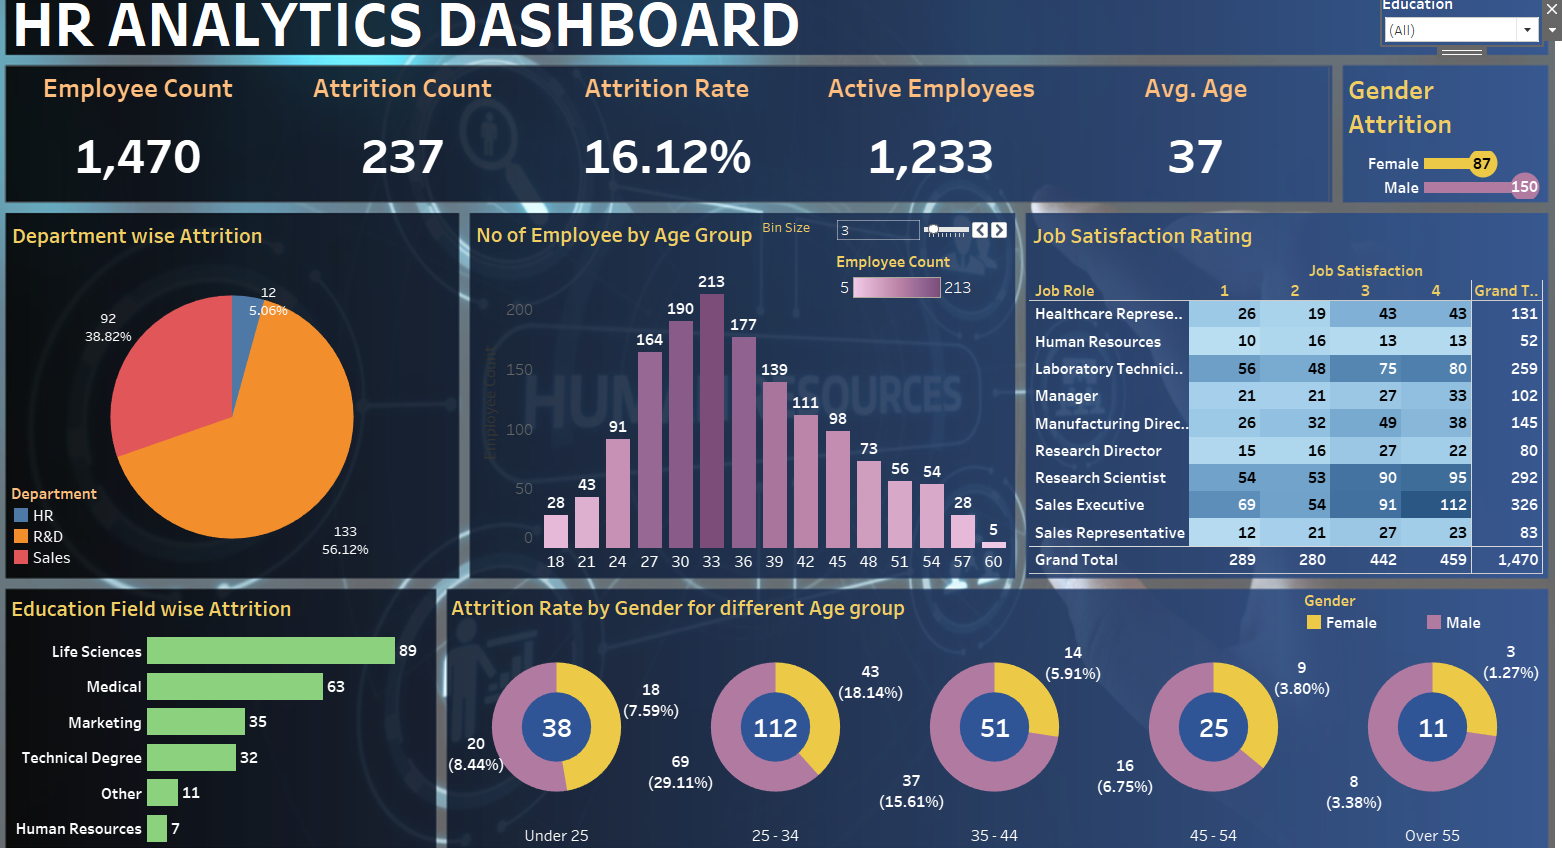

The dashboard page shown, as its layout file describes it:
{"tool":"tableau","page":{"name":"HR ANALYTICS DASHBOARD","canvas":[1580,900],"ordinal":0},"visuals":[{"type":"image","param":"C:/Users/FLEX5/Downloads/HR background.png.png","box":[8,8,1564,884]},{"type":"text","box":[21,24,1016,56]},{"type":"filter","title":"Job Satisfaction Rating","param":"[federated.13p04v2098reoa1bb9p3b1orqn49].[none:Education:nk]","box":[1395,24,160,52]},{"type":"worksheet","title":"KPI","mark":"Automatic","box":[19,98,1322,134]},{"type":"worksheet","title":"Gender Attrition","mark":"Automatic","rows":["Gender"],"cols":["Calculation_1367686963454570496","Calculation_1367686963454570496"],"box":[1357,99,201,131]},{"type":"worksheet","title":"No of Employee by Age Group","mark":"Automatic","rows":["Employee Count"],"cols":["Age (bin)"],"box":[485,247,538,357]},{"type":"worksheet","title":"Department wise Attrition","mark":"Pie","box":[21,248,448,357]},{"type":"parameter","param":"[Parameters].[Parameter 1]","box":[775,248,248,37]},{"type":"worksheet","title":"Job Satisfaction Rating","mark":"Square","rows":["Job Role"],"cols":["Job Satisfaction"],"box":[1042,248,514,357]},{"type":"legend","title":"No of Employee by Age Group","param":"[federated.13p04v2098reoa1bb9p3b1orqn49].[sum:Employee Count:qk]","box":[849,282,140,49]},{"type":"legend","title":"Department wise Attrition","param":"[federated.13p04v2098reoa1bb9p3b1orqn49].[none:Department:nk]","box":[24,514,111,85]},{"type":"worksheet","title":"Attrition Rate by Gender for different Age group","mark":"Pie","rows":["Calculation_1367686963543351301","Calculation_1367686963543351301"],"cols":["CF_age band"],"box":[460,620,1095,258]},{"type":"worksheet","title":"Education Field wise Attrition","mark":"Automatic","rows":["Education Field"],"cols":["Calculation_1367686963454570496"],"box":[20,621,427,256]},{"type":"legend","title":"Attrition Rate by Gender for different Age group","param":"[federated.13p04v2098reoa1bb9p3b1orqn49].[none:Gender:nk]","box":[1317,621,242,43]}]}

Visuals, with their boxes in screenshot pixels (x1, y1, x2, y2):
image: rect(0, 0, 1554, 847)
text: rect(9, 0, 1021, 43)
"Job Satisfaction Rating" filter: rect(1378, 0, 1537, 39)
"KPI" worksheet: rect(7, 61, 1324, 195)
"Gender Attrition" worksheet: rect(1340, 62, 1540, 193)
"No of Employee by Age Group" worksheet: rect(471, 210, 1007, 565)
"Department wise Attrition" worksheet (Pie marks): rect(9, 211, 455, 566)
parameter: rect(760, 211, 1007, 247)
"Job Satisfaction Rating" worksheet (Square marks): rect(1026, 211, 1538, 566)
"No of Employee by Age Group" legend: rect(834, 244, 973, 293)
"Department wise Attrition" legend: rect(12, 476, 122, 560)
"Attrition Rate by Gender for different Age group" worksheet (Pie marks): rect(446, 581, 1537, 838)
"Education Field wise Attrition" worksheet: rect(8, 582, 433, 837)
"Attrition Rate by Gender for different Age group" legend: rect(1300, 582, 1541, 625)
